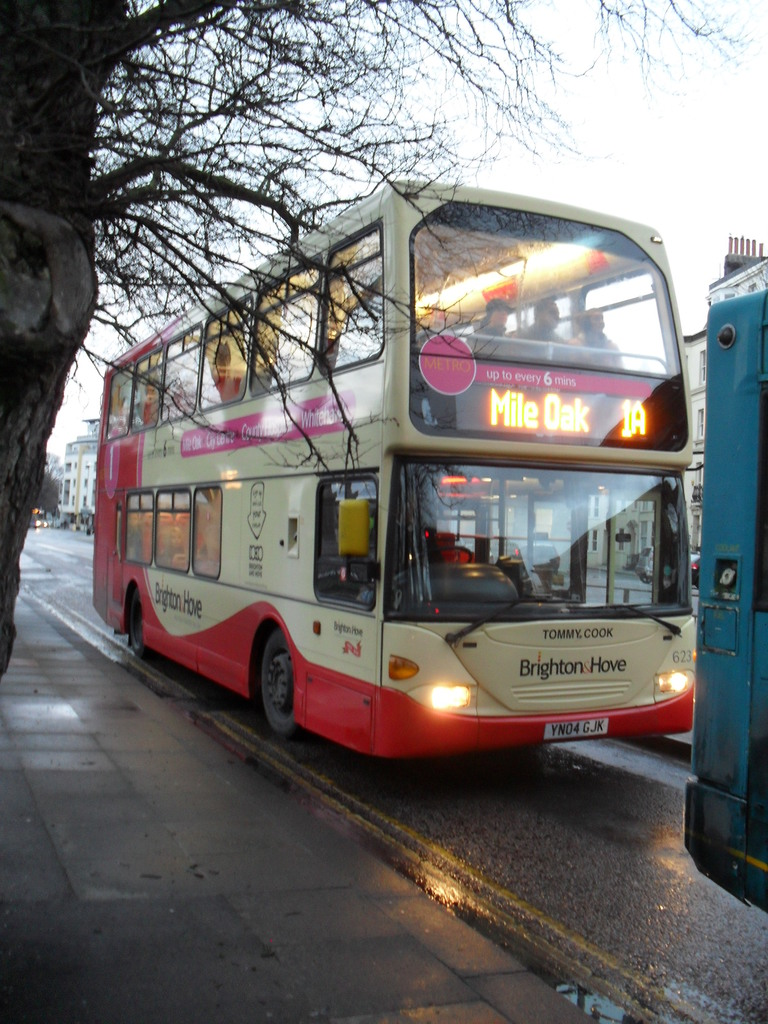Bus: (85, 175, 700, 756), (682, 284, 767, 906)
